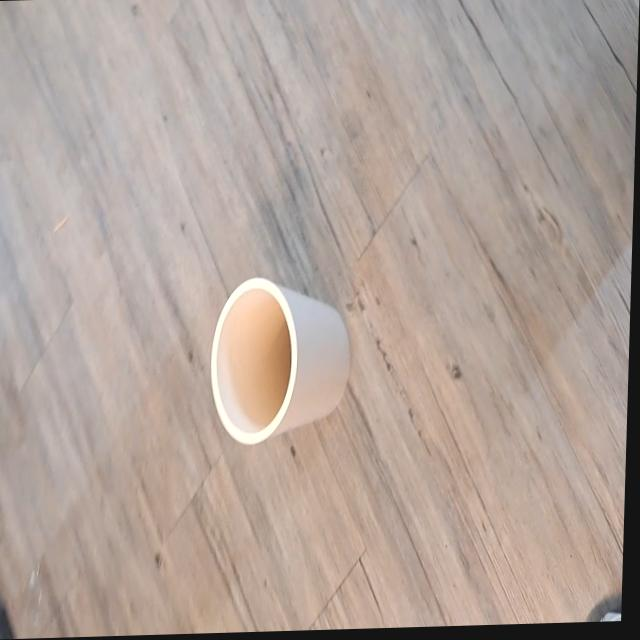CORAL: (193, 239, 362, 467)
